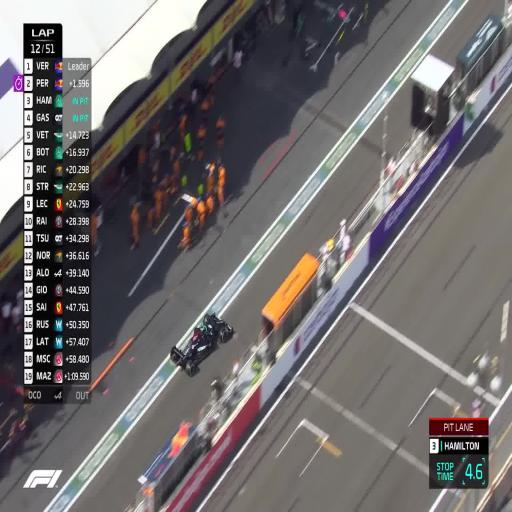f1_car: (170, 313, 234, 375)
